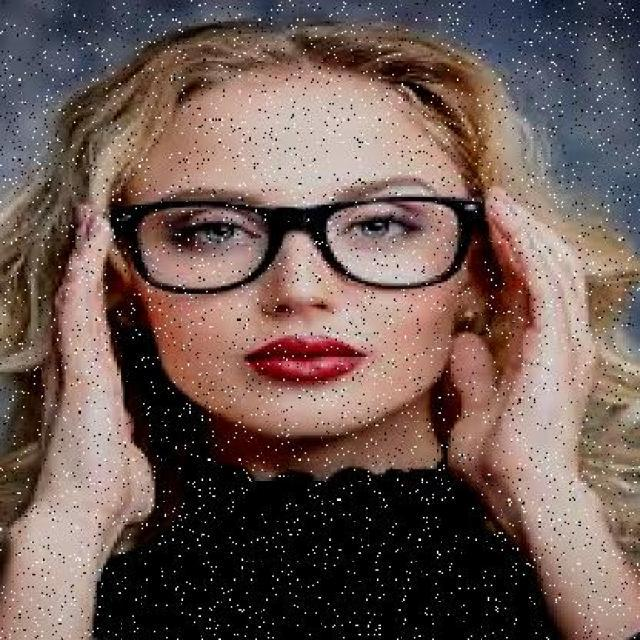glasses: (106, 188, 492, 300)
